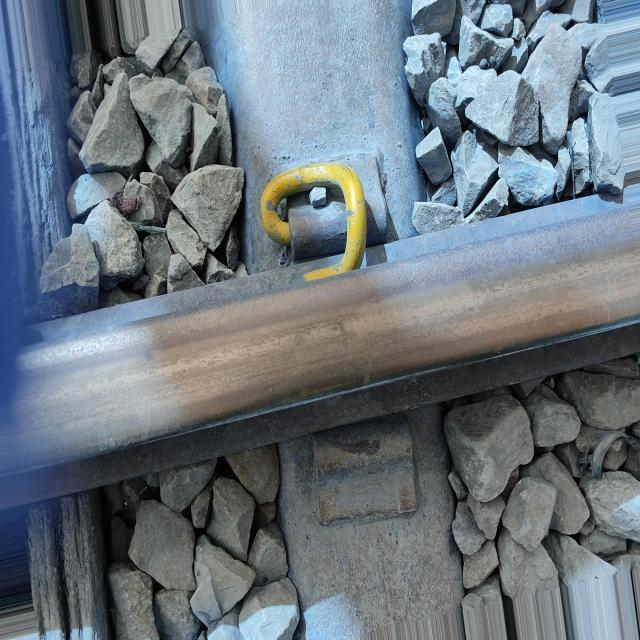Good Fasteners: (226, 120, 416, 296)
Missing Fastener: (298, 381, 457, 552)
